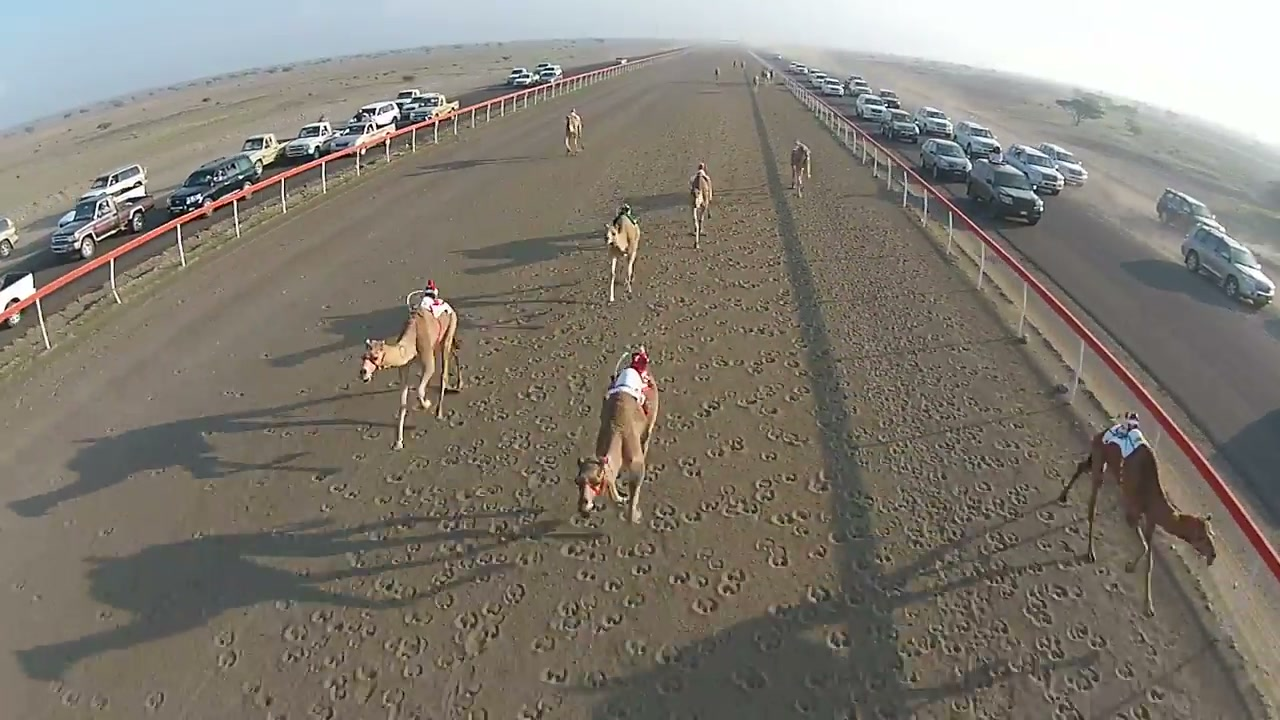animal_footprint: (13, 54, 1248, 719)
